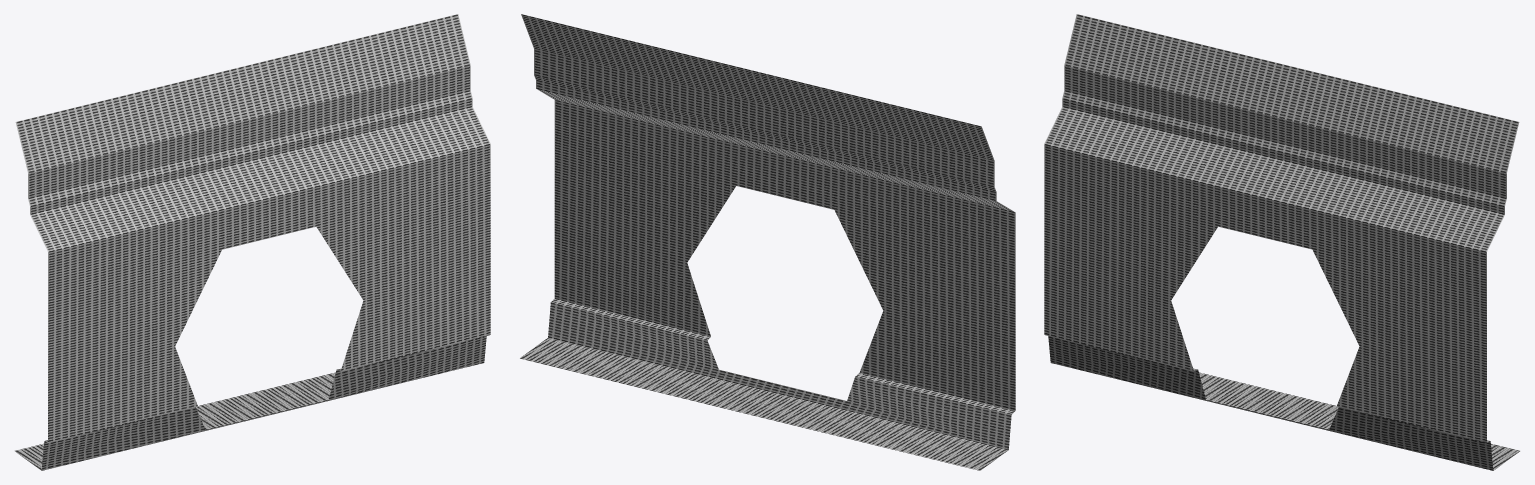
The model's file is wall.fbx.
The picture shows the model from 3 angles, left to right: view 1: azimuth 30°, elevation 25°; view 2: azimuth 150°, elevation 25°; view 3: azimuth 330°, elevation 25°; orthographic projection. The views are drawn at different scales.
Parts seen in each view (by area): view 1: fire.004; view 2: fire.004; view 3: fire.004.
Part boxes in pixels (box(x1,y1,x2,y2)): fire.004: box(15, 14, 490, 470); fire.004: box(520, 14, 1015, 470); fire.004: box(1044, 14, 1519, 470).
Bounding box in the file's own units: 3087 × 2199 × 410.
Materials: 1 (1 with a texture image).
